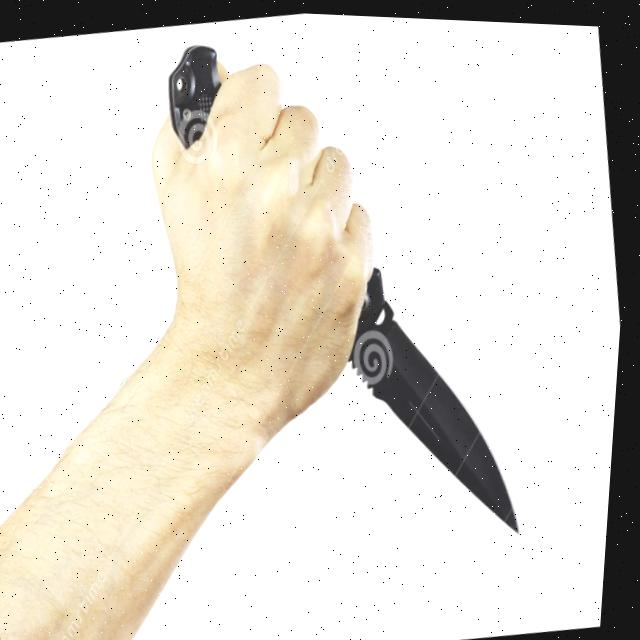knife: (335, 268, 570, 565)
